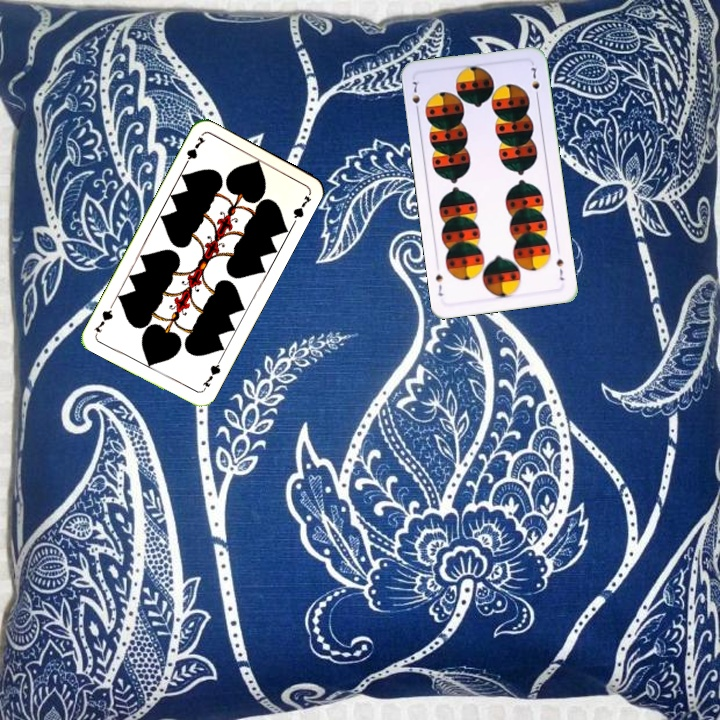G7: (180, 132, 208, 170), (198, 356, 224, 394)
S7: (408, 75, 423, 116), (552, 255, 567, 283)
